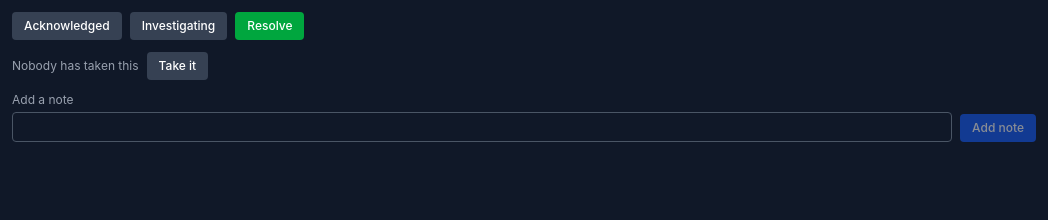
Test: IncidentActions — resolving needs an answer › puts the resolution form away when it is abandoned
This screenshot has width=1048, height=220.
Step 1. Click the button "Resolve" → (270, 26), box 235,12 -> 304,40
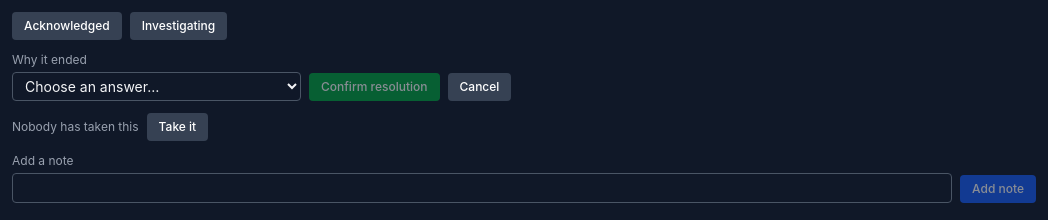
Step 2. Click the button "Cancel" → (479, 87), box 448,73 -> 511,101
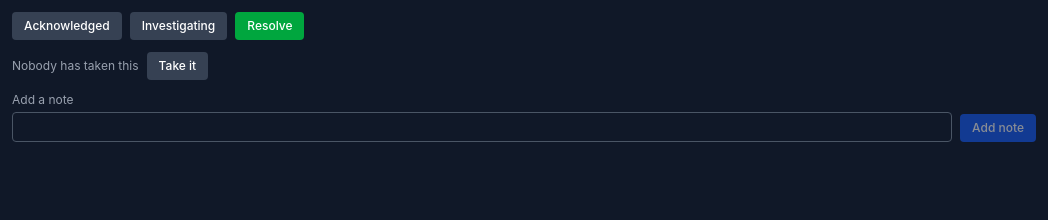
Expected: the text labelled "Why it ended" is gone
